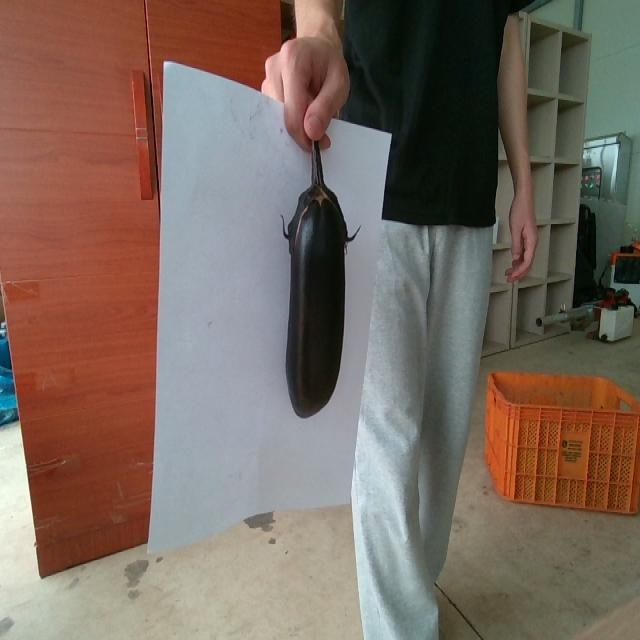Egg plant: (283, 141, 359, 417)
